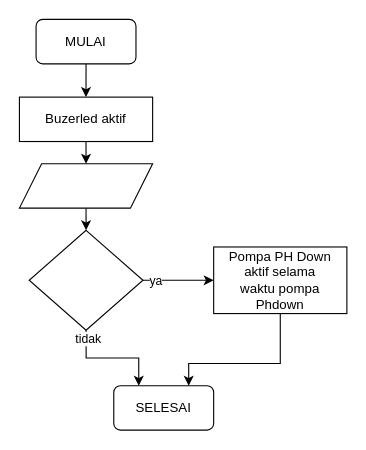
The diagram is 366 pixels wide and 450 high, and some of its shapes have lost their labels. The shapes that lost their labels are listed below. From the top down, each one's centre as x and y in pixels, then its label:
the point at 85,185: Baca PH
the point at 85,279: jika Ph > ph set
